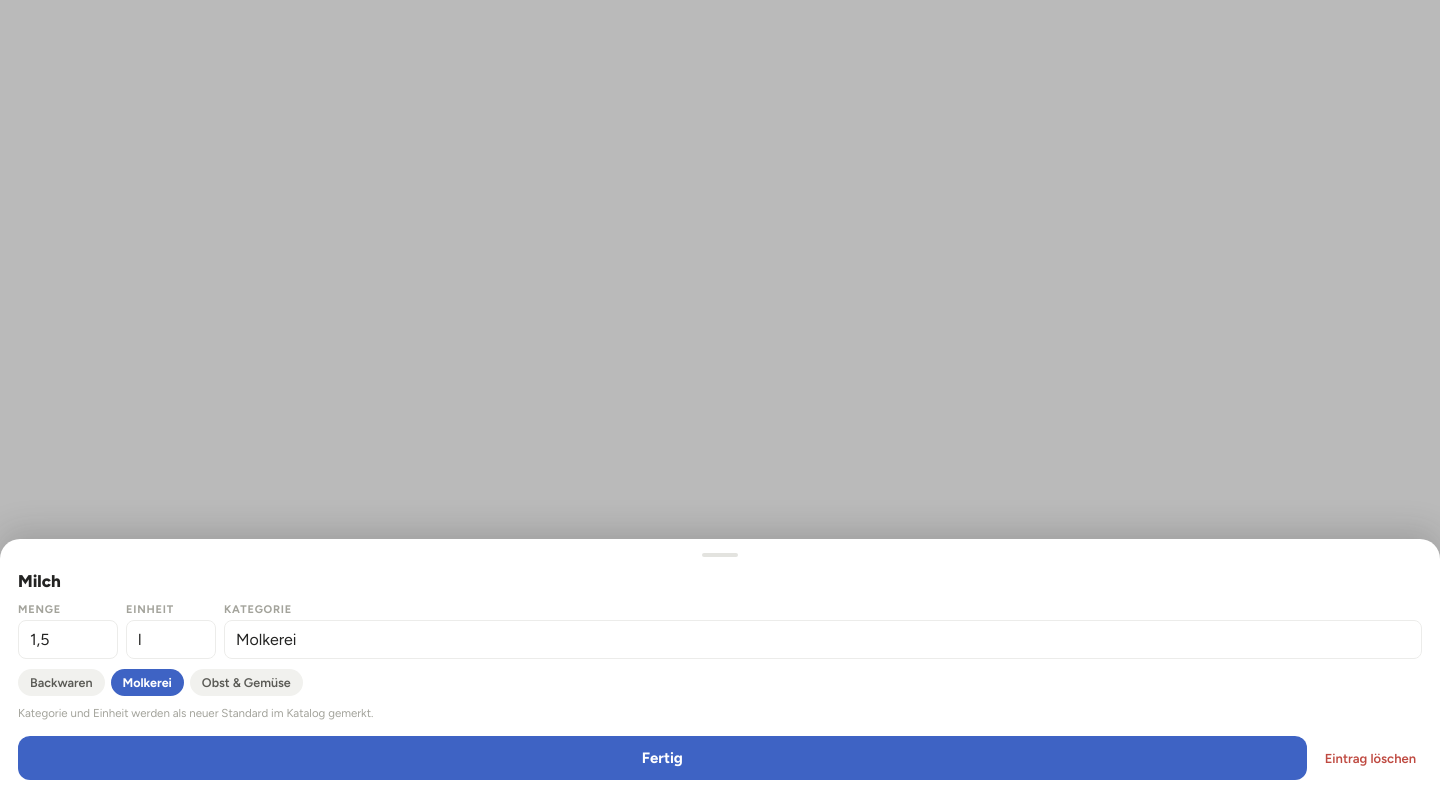
EntrySheet › converts MENGE live when EINHEIT changes within a scale group
In the field labelled "Einheit": point(171, 640) 126,620 -> 216,659, type "ml"
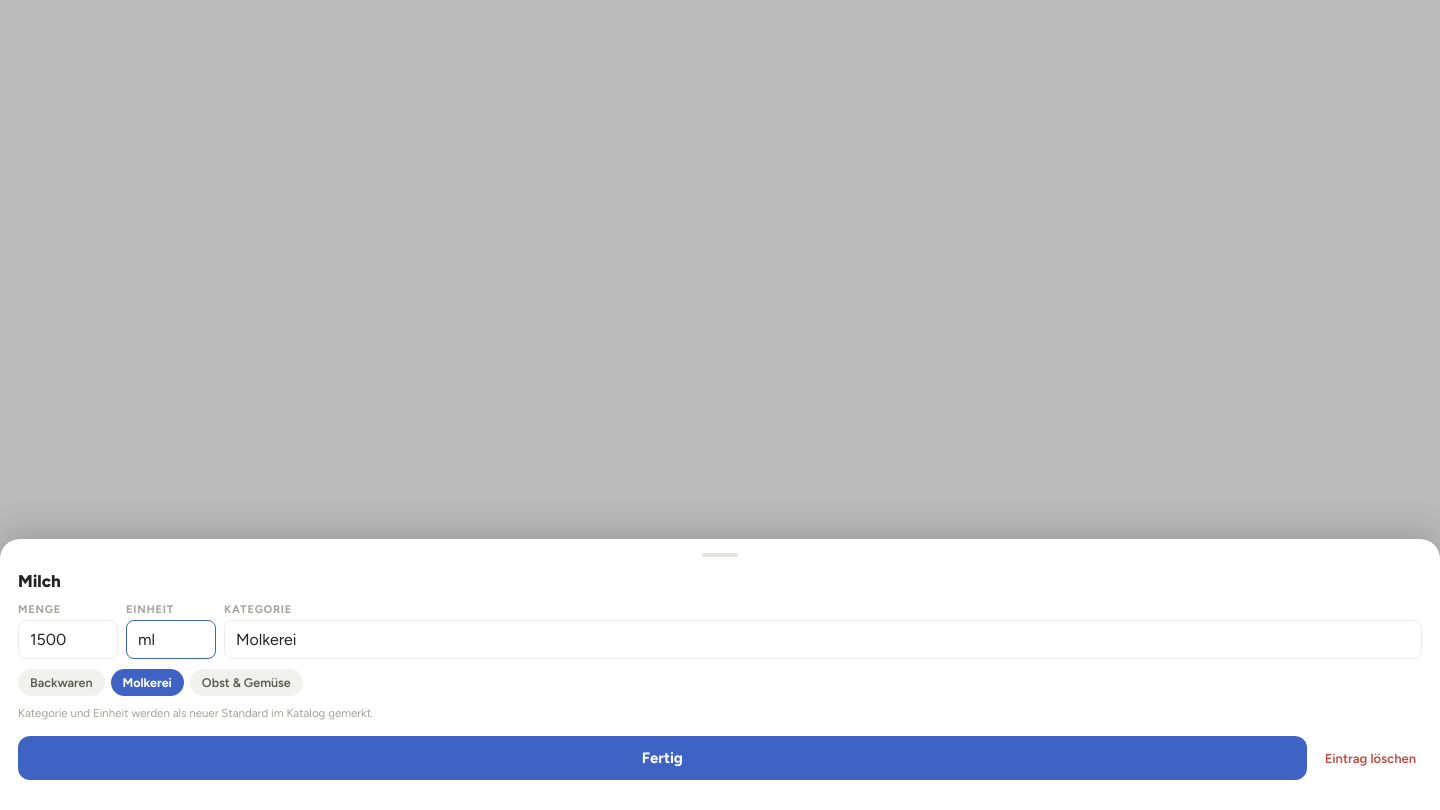
expect the field labelled "Menge" holds "1500": met, box 18,620 -> 118,659
Replace the text in the field labelled "Einheit" with "dl": point(171, 640) 126,620 -> 216,659
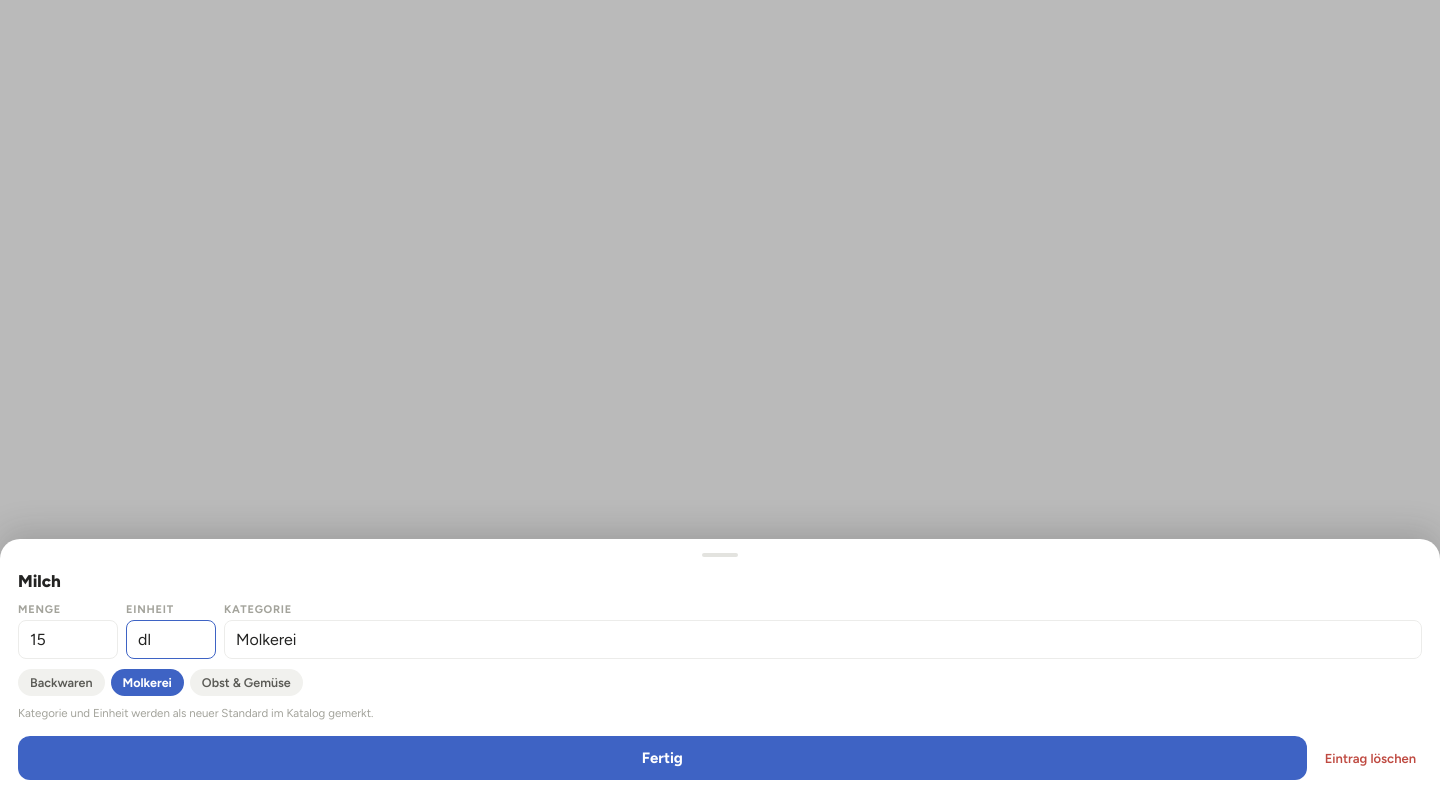
expect the field labelled "Menge" holds "15": met, box 18,620 -> 118,659
